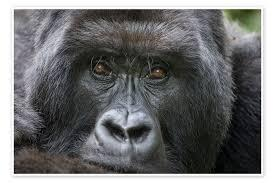goriile_montagne: (17, 10, 257, 170)
